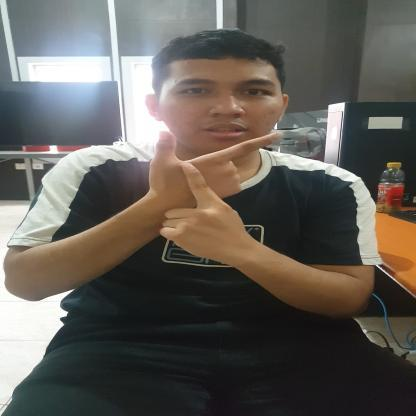Y: (148, 129, 287, 257)
